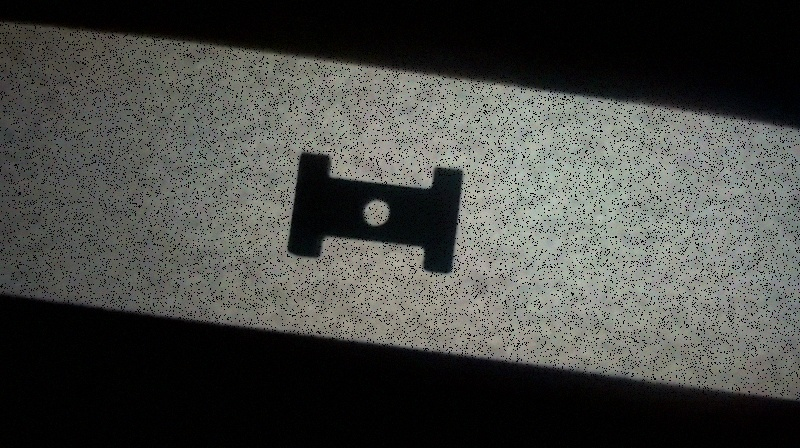O002: (284, 149, 468, 276)
